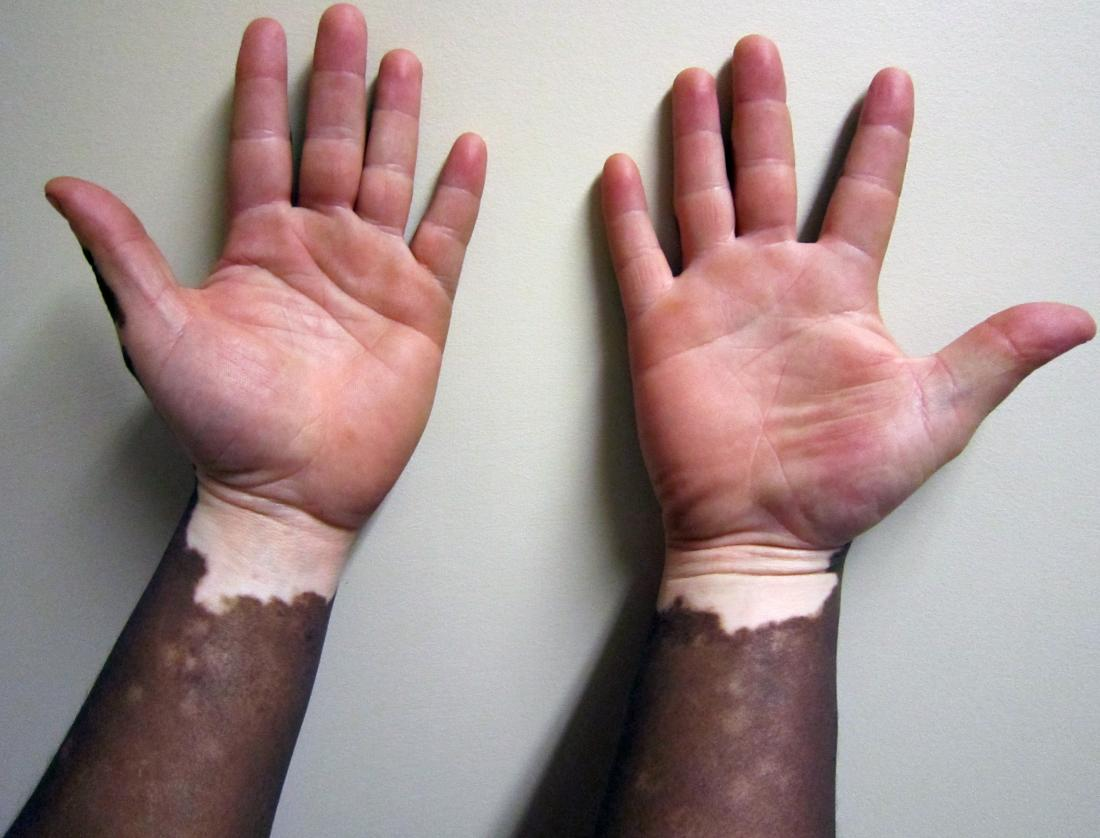vitiligo: (161, 403, 372, 670), (661, 510, 851, 693)
